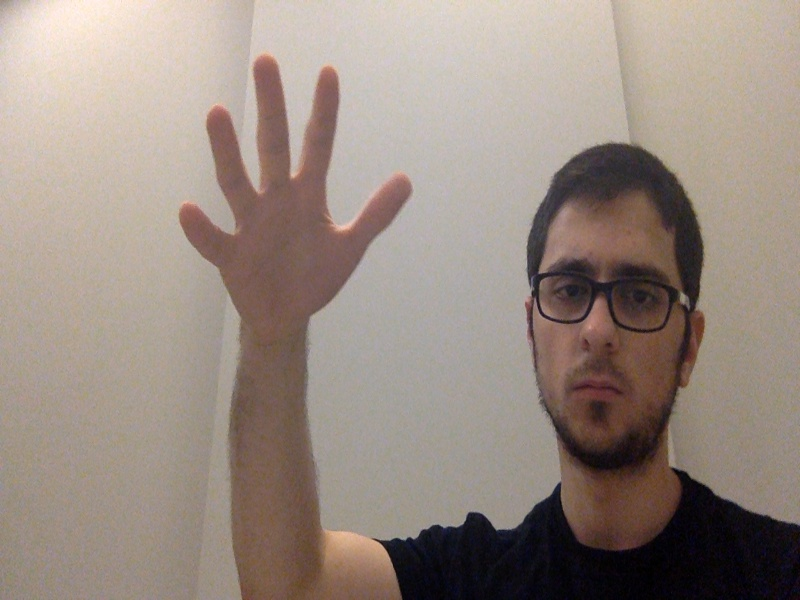5-hand: (174, 51, 416, 333)
